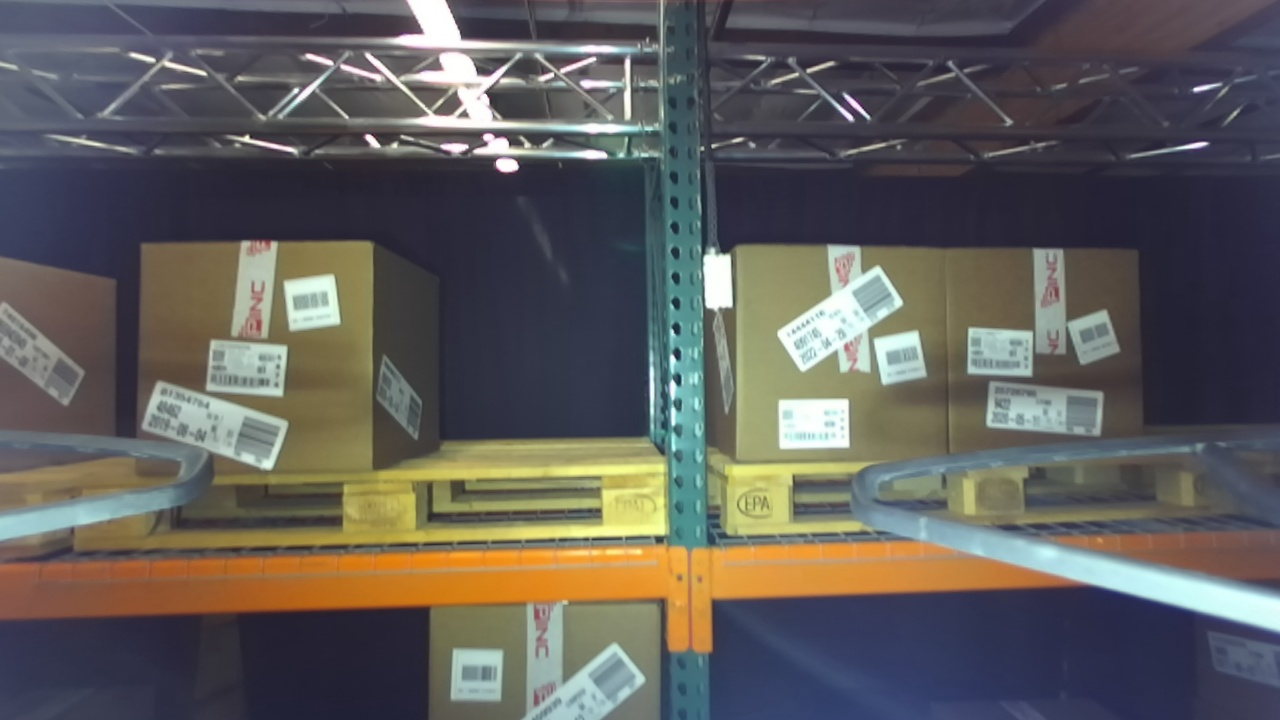box: (116, 225, 408, 497), (715, 213, 962, 496), (925, 221, 1167, 476)
